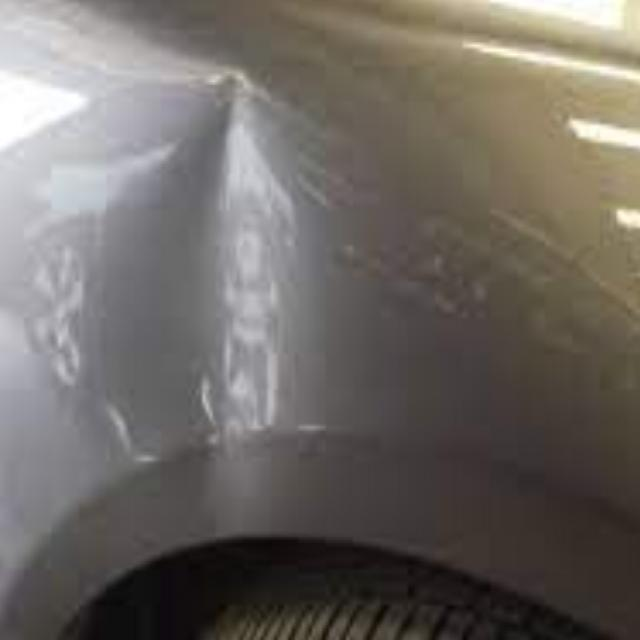dents: (22, 77, 314, 458)
